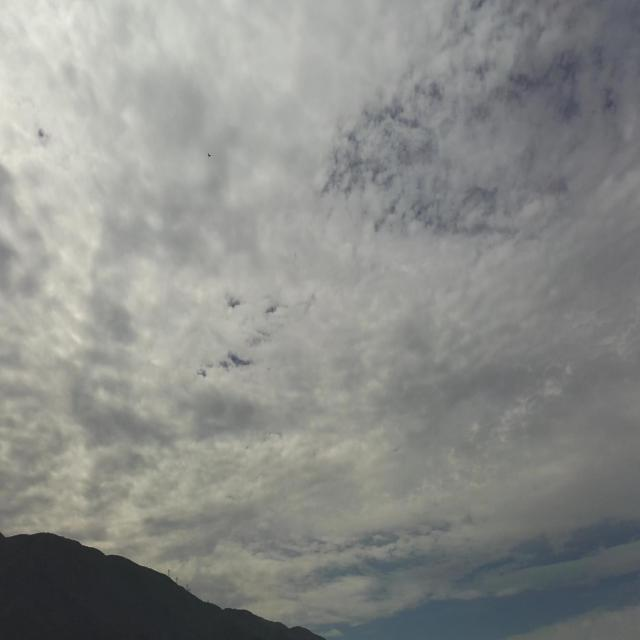Birds: (205, 148, 214, 160)
